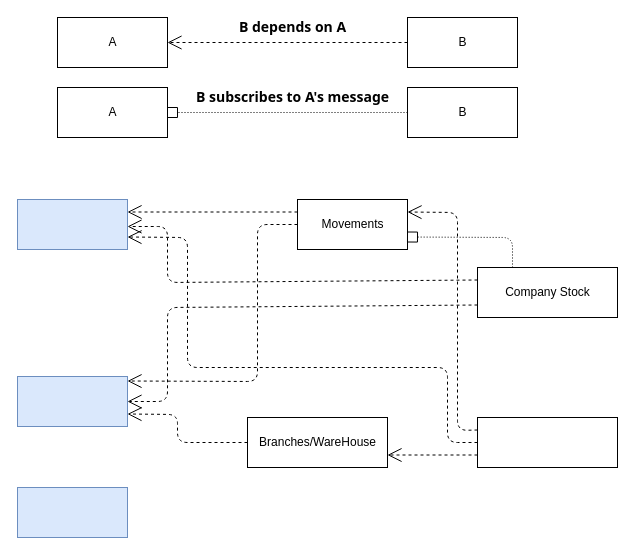
Image size: 635x555. Some labels were removed from this diagram. Here are the shapes that lost their labels. From the top down, the box of each, then its label:
(16, 198, 128, 250): Ingredients
(16, 376, 128, 426): Company
(476, 416, 618, 468): Warehouses Stock
(16, 486, 128, 538): Measurements
